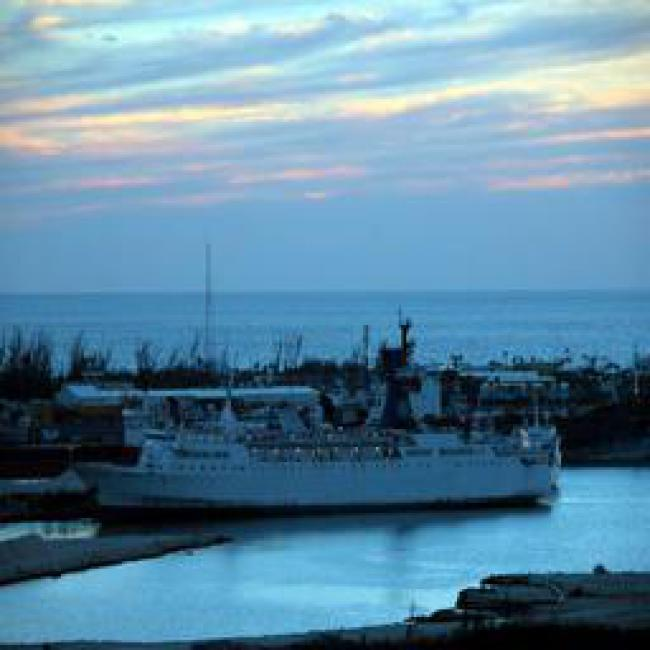Ship: (89, 429, 555, 513)
